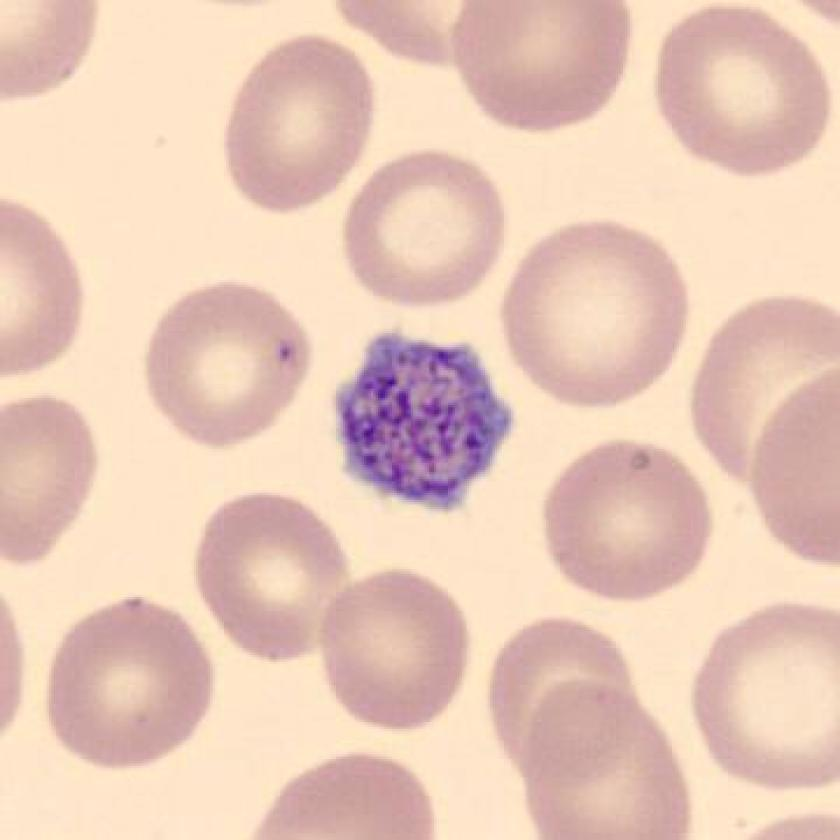platelets: (323, 316, 526, 522)
